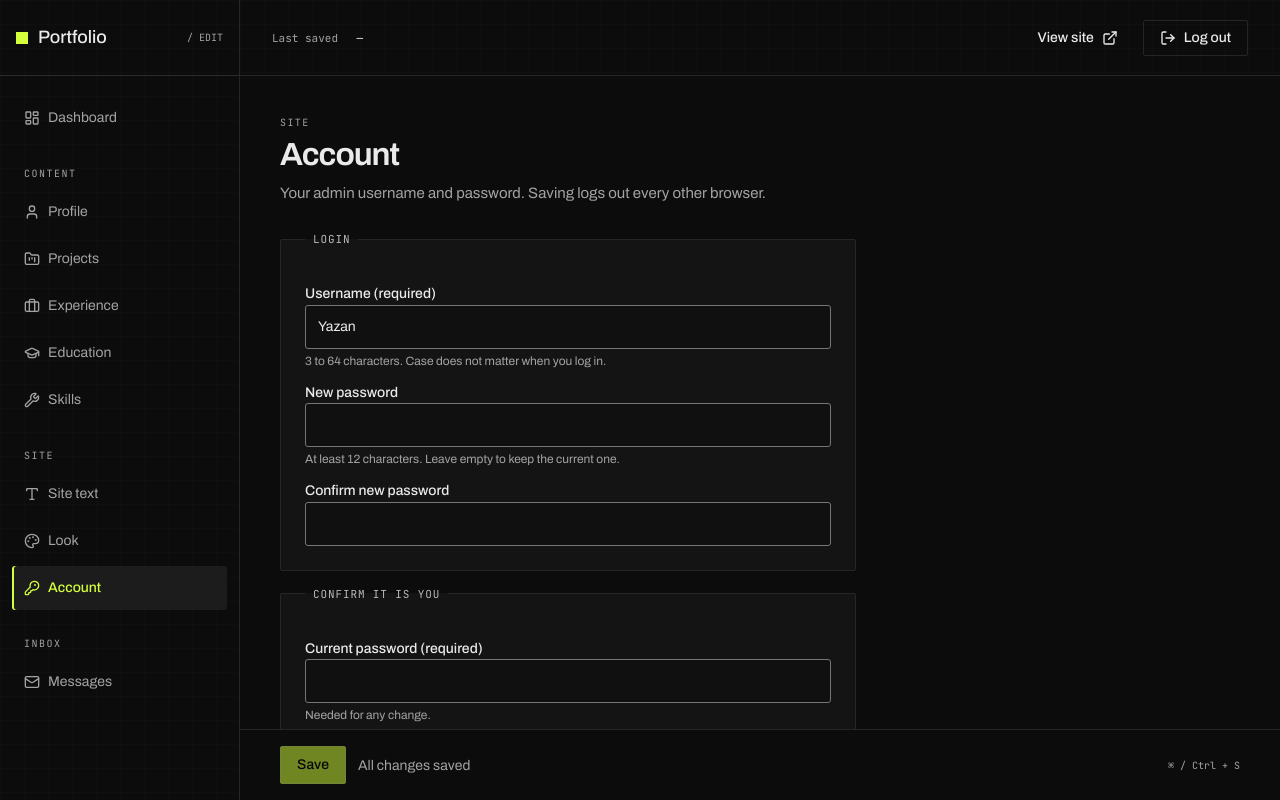
AdminAccount › a wrong current password shows on that field and does not log out
Replace the text in the field labelled "Username (required)" with "Admin2" at (568, 327), box [305,305,831,349]
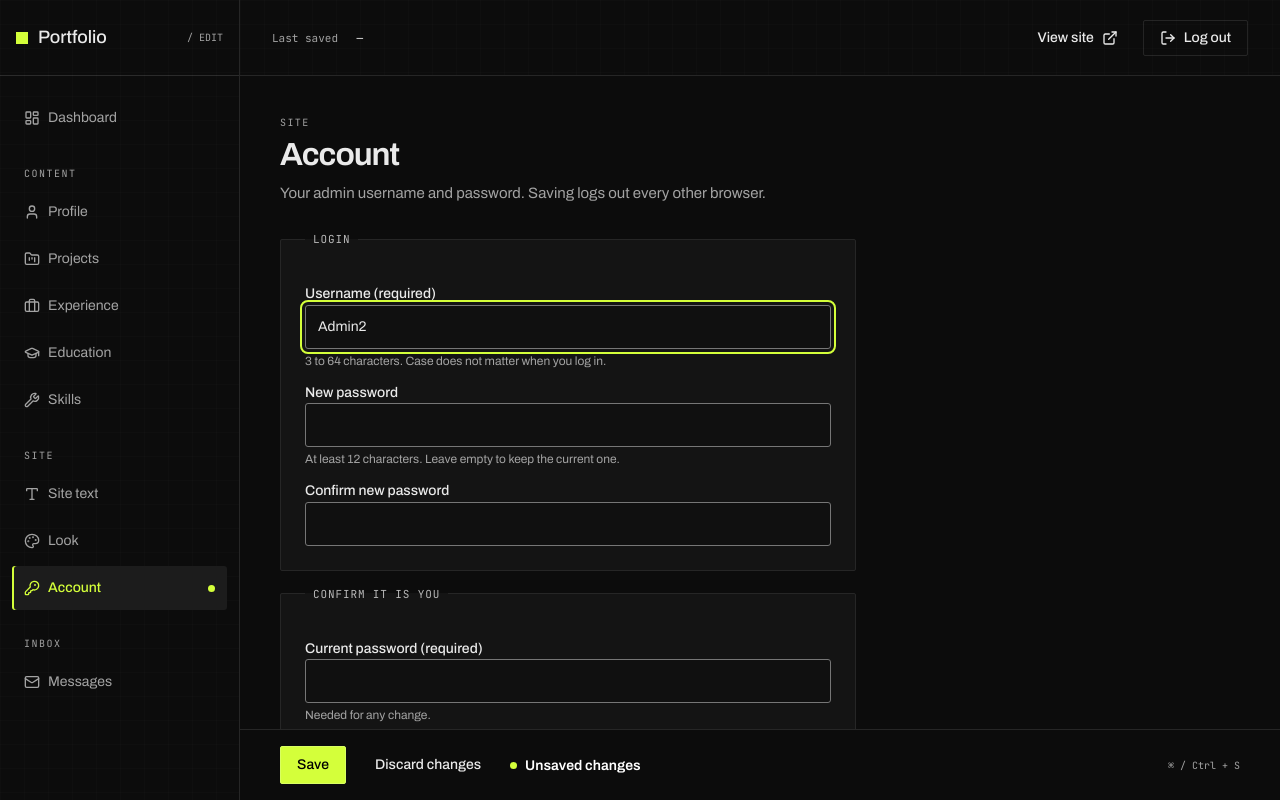
Type "wrong password" into the password field labelled "Current password (required)" at (568, 681), box [305,659,831,703]
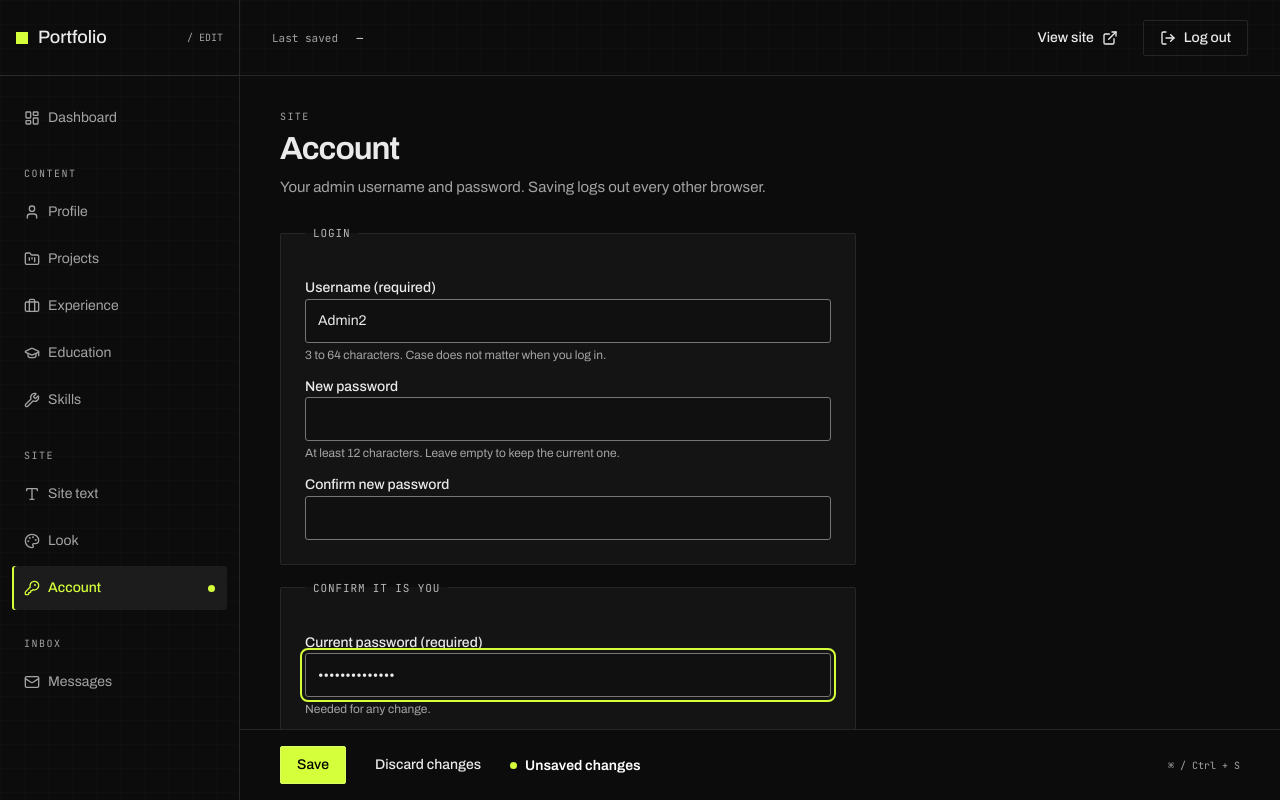
Click the button "Save" at (313, 765), box [280,746,346,784]
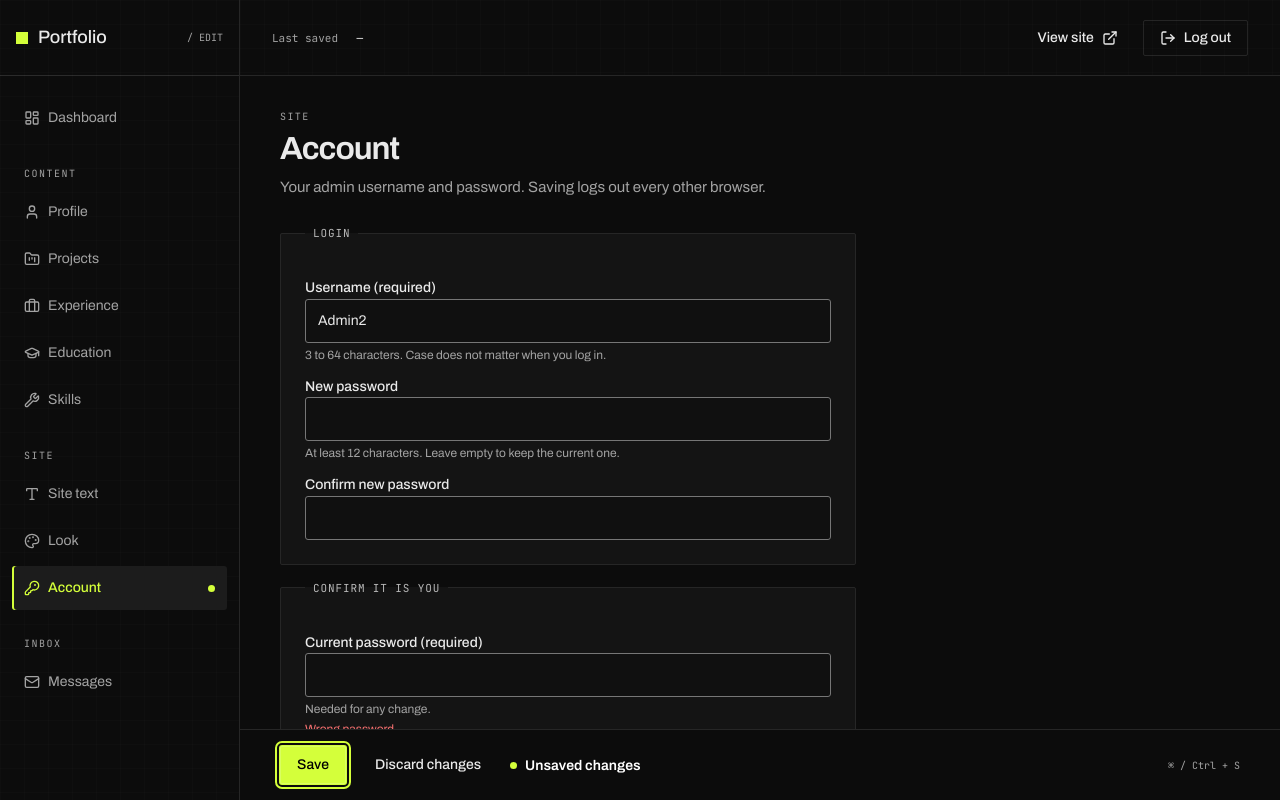
Expected: the password field labelled "Current password (required)" is empty, [305,653,831,697]
